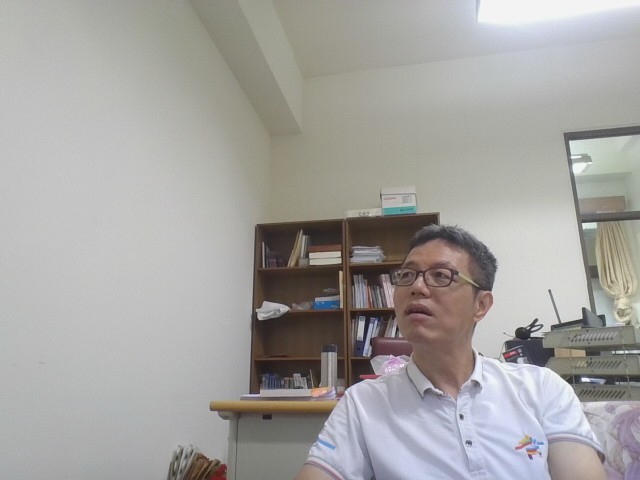No_Helmet: (387, 223, 499, 384)
person: (256, 211, 636, 480)
